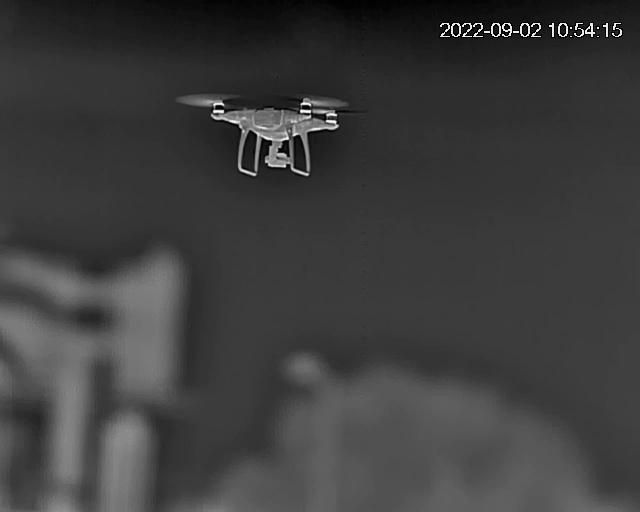DJI-Phantom: (172, 91, 372, 177)
